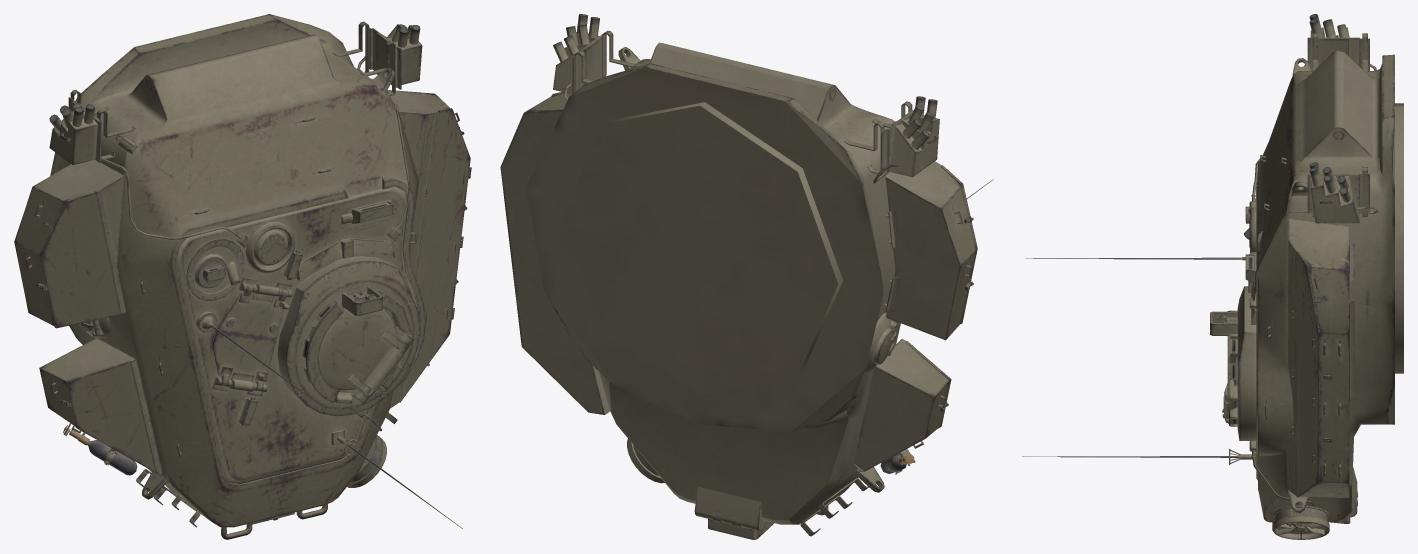
Rendered from Turret_02.glb.
3 renders of one model, left to right at view 1: azimuth 30°, elevation 25°; view 2: azimuth 150°, elevation 25°; view 3: azimuth 270°, elevation 25°, orthographic. The views are drawn at different scales.
Visible parts, largest first — view 1: set_0_group_0; view 2: set_0_group_0; view 3: set_0_group_0.
Boxes of the visible parts, bbox=[...] form: set_0_group_0: bbox=[14, 14, 471, 539]; set_0_group_0: bbox=[500, 14, 993, 539]; set_0_group_0: bbox=[1022, 14, 1403, 539].
Size of the model in its own units: 3.33 by 3.24 by 2.64.
Materials: 1 (1 with a texture image).
